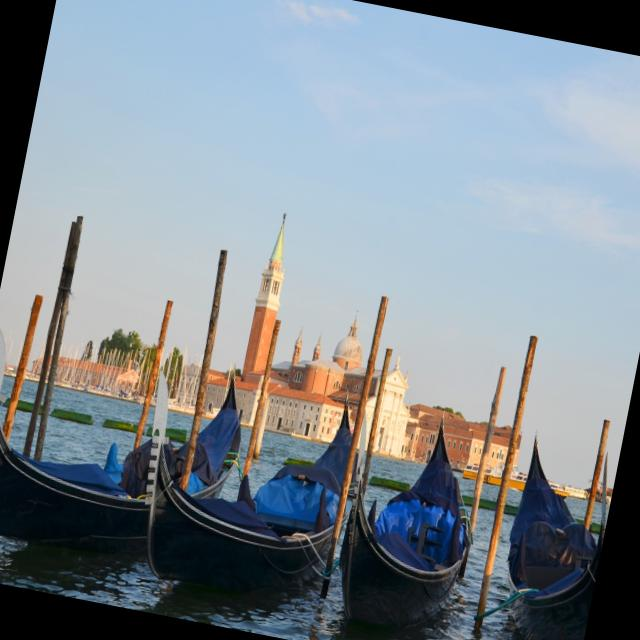boat: (102, 337, 390, 640), (0, 320, 256, 590), (305, 385, 500, 640), (481, 422, 622, 640)
